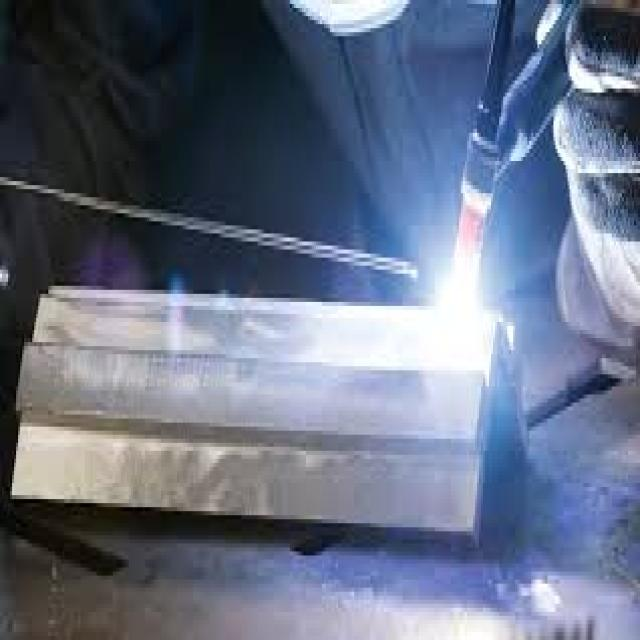welding: (434, 284, 484, 366)
